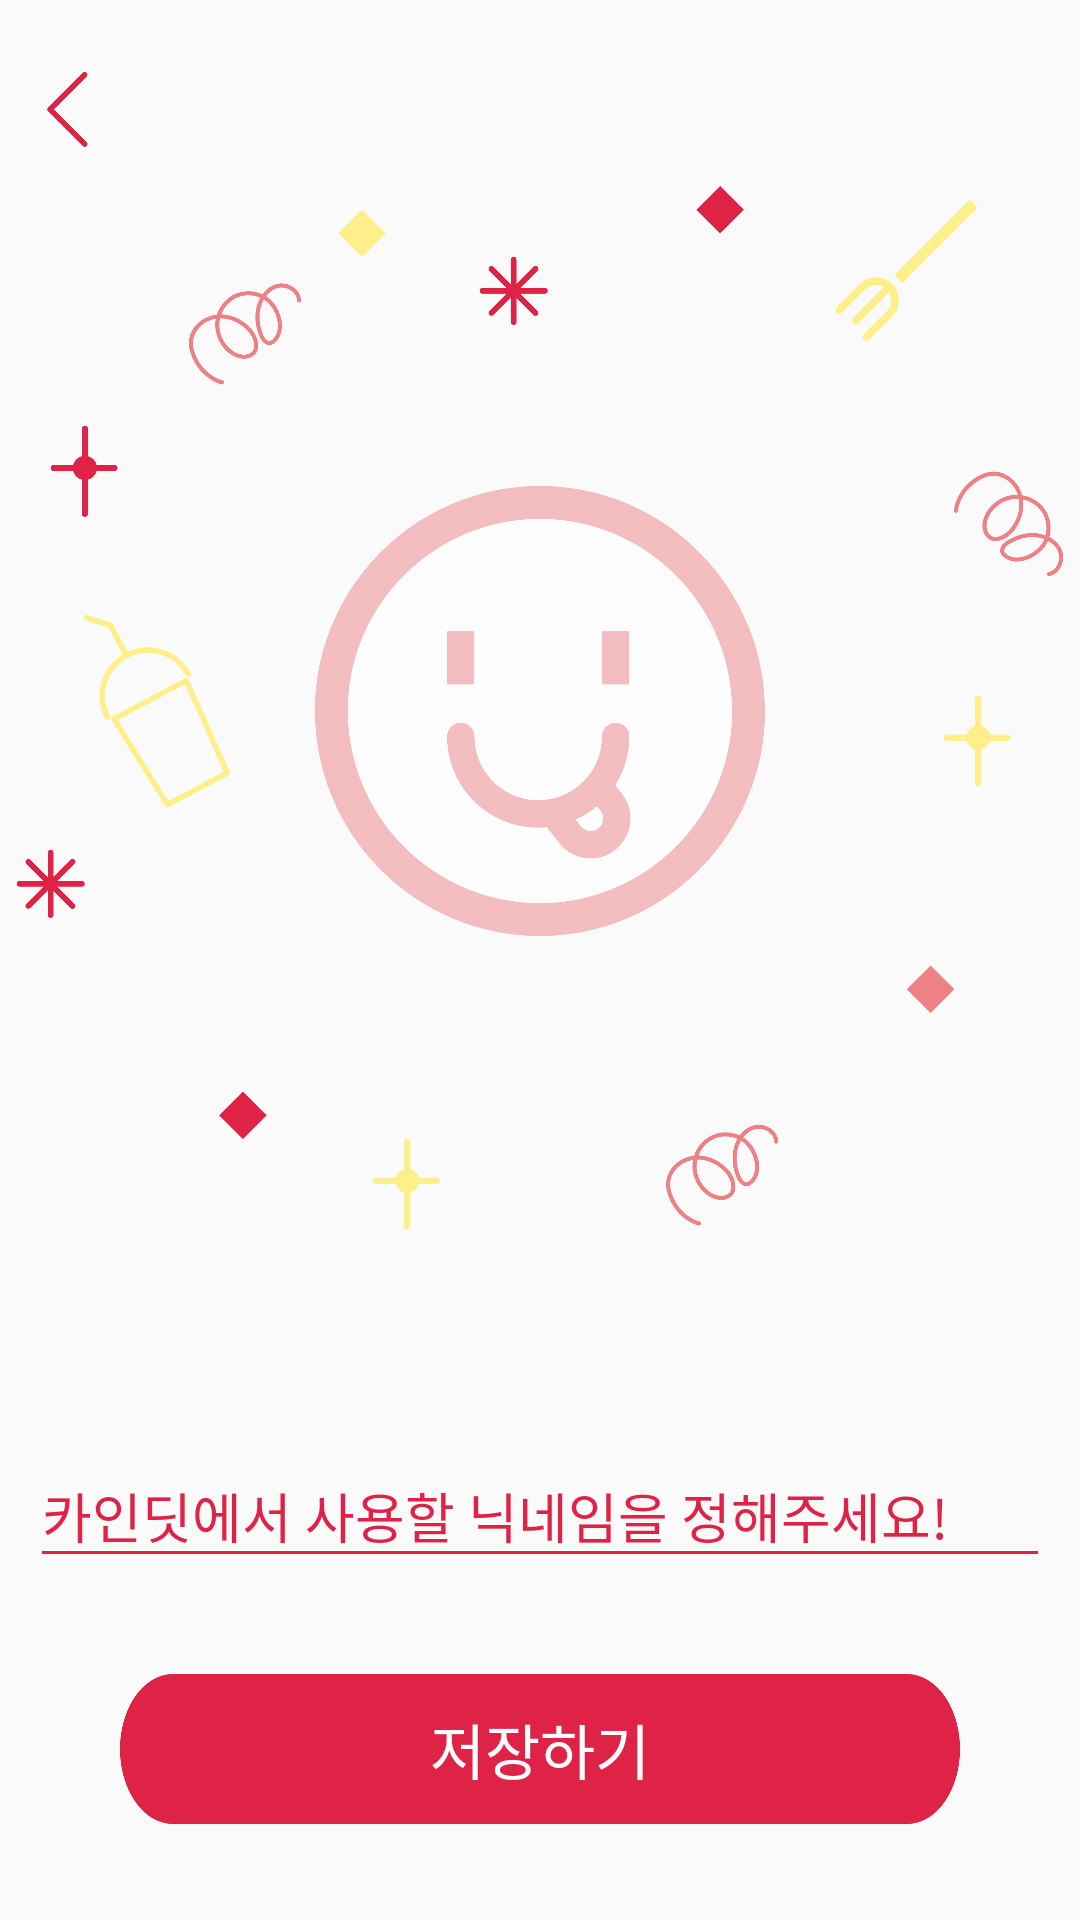

Where to tap for icons on this 1080×1920 app screen, as (x=x, y=y):
back: (x=67, y=109)
